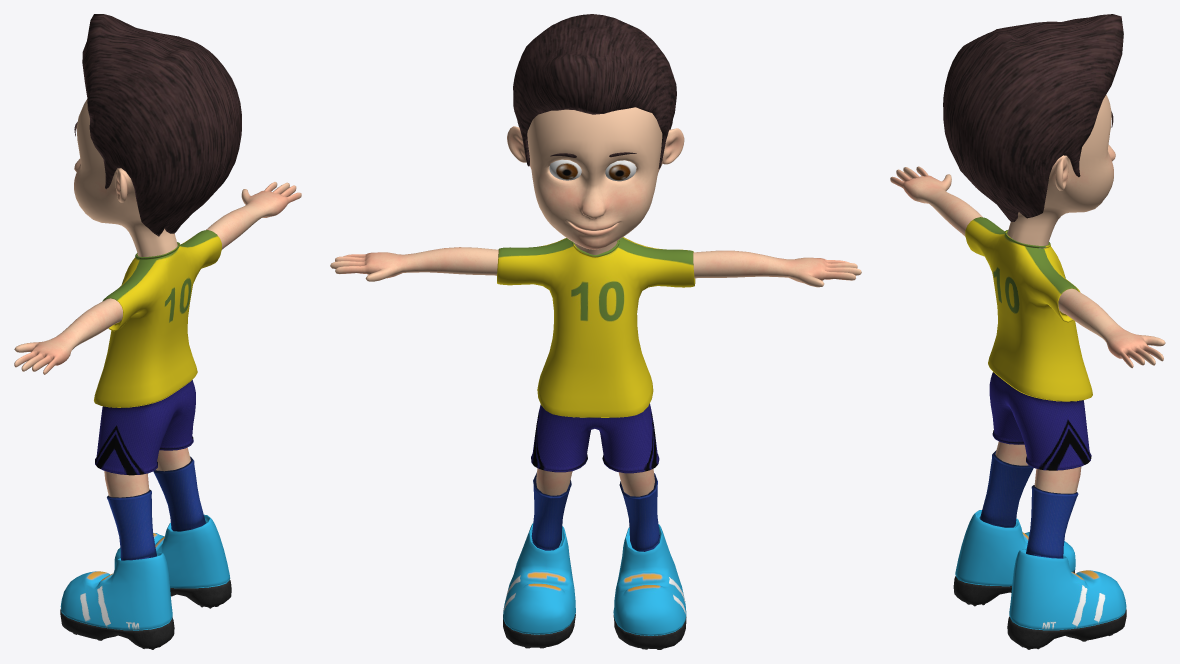
The model's file is football_player_brazil.obj.
3 renders of one model, left to right at view 1: azimuth 30°, elevation 25°; view 2: azimuth 150°, elevation 25°; view 3: azimuth 270°, elevation 25°, orthographic. The views are drawn at different scales.
Parts seen in each view (by area): view 1: low16994:Group17395_Material.002_0; view 2: low16994:Group17395_Material.002_0; view 3: low16994:Group17395_Material.002_0.
Part boxes in pixels (left/top/right/bottom): low16994:Group17395_Material.002_0: left=14, top=14, right=301, bottom=649; low16994:Group17395_Material.002_0: left=330, top=14, right=861, bottom=649; low16994:Group17395_Material.002_0: left=890, top=14, right=1165, bottom=649.
Bounding box in the file's own units: 1.15 × 1.62 × 0.6803.
Materials: 1 (1 with a texture image).
